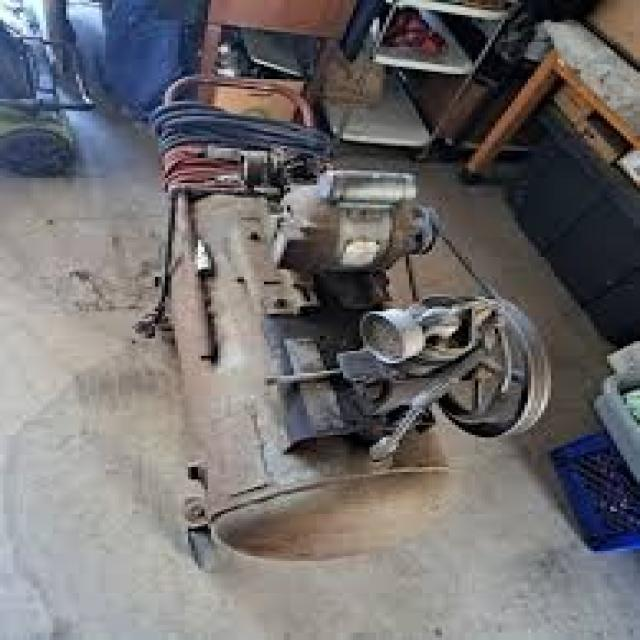compressor: (138, 72, 551, 570), (0, 0, 95, 175)
corrosion detected: (242, 476, 515, 554), (313, 165, 419, 272), (353, 292, 492, 368), (333, 232, 383, 267)
